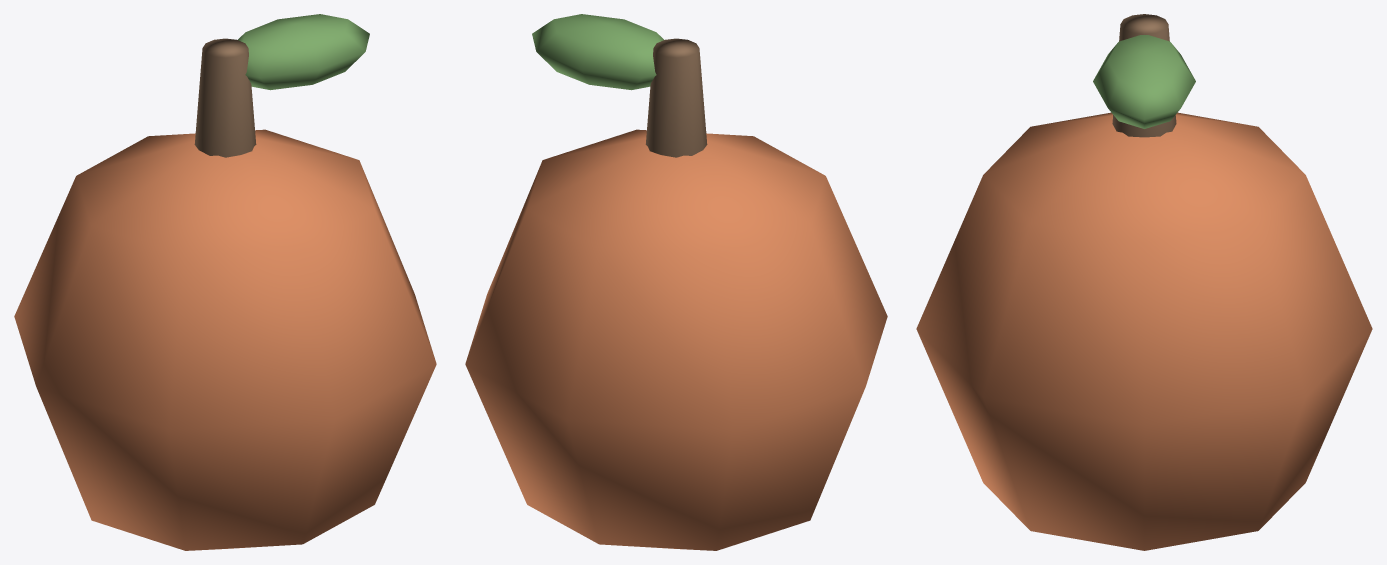
File: harvest_fruit_hand_low.glb
3 views of the same model, side by side, from view 1: azimuth 30°, elevation 25°; view 2: azimuth 150°, elevation 25°; view 3: azimuth 270°, elevation 25° (orthographic). The views are drawn at different scales.
Bounding box in the file's own units: 0.19 × 0.2435 × 0.19.
